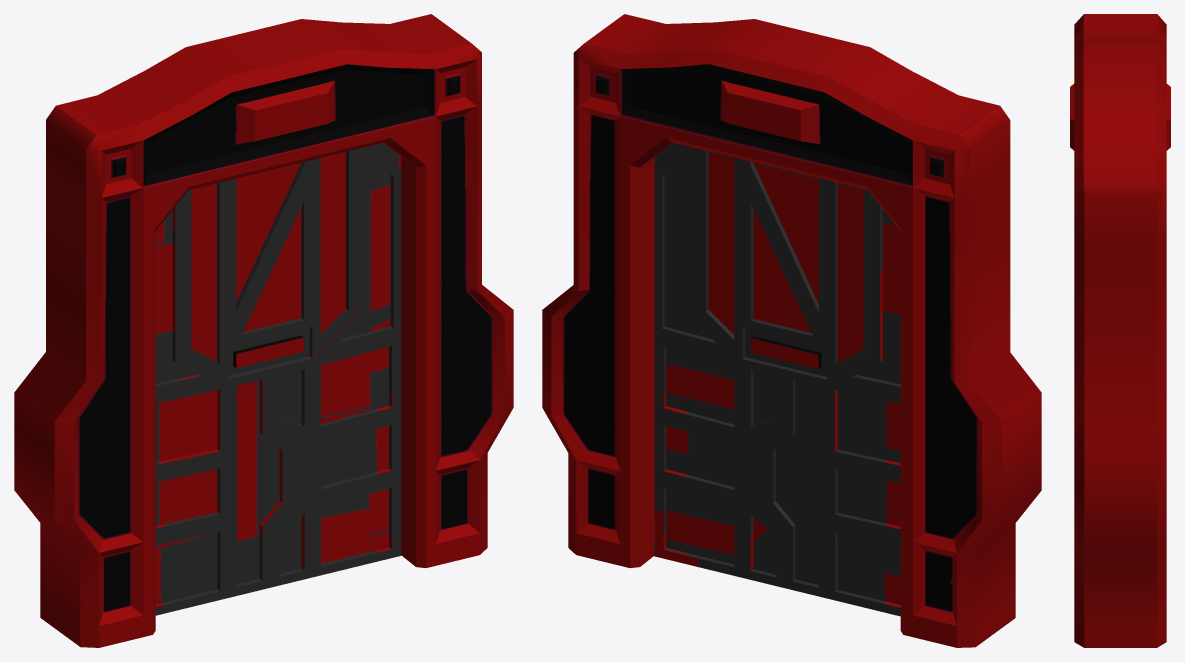
Rendered from scifi.obj.
3 renders of one model, left to right at view 1: azimuth 30°, elevation 25°; view 2: azimuth 150°, elevation 25°; view 3: azimuth 270°, elevation 25°, orthographic. The views are drawn at different scales.
Parts seen in each view (by area): view 1: frame_Mesh, right_Mesh.003, left_Mesh.002, top_Mesh.001; view 2: frame_Mesh, right_Mesh.003, left_Mesh.002, top_Mesh.001; view 3: frame_Mesh.
Boxes of the visible parts, x1,y1,x2,y2 form: frame_Mesh: [14, 14, 513, 647]; right_Mesh.003: [267, 142, 401, 587]; left_Mesh.002: [155, 196, 290, 615]; top_Mesh.001: [183, 149, 357, 378]; frame_Mesh: [542, 14, 1041, 647]; right_Mesh.003: [654, 142, 786, 587]; left_Mesh.002: [764, 195, 900, 616]; top_Mesh.001: [697, 148, 871, 379]; frame_Mesh: [1070, 14, 1170, 647].
Size of the model in its own units: 3.34 by 3.72 by 0.7015.
Materials: 4 (4 with a texture image).
